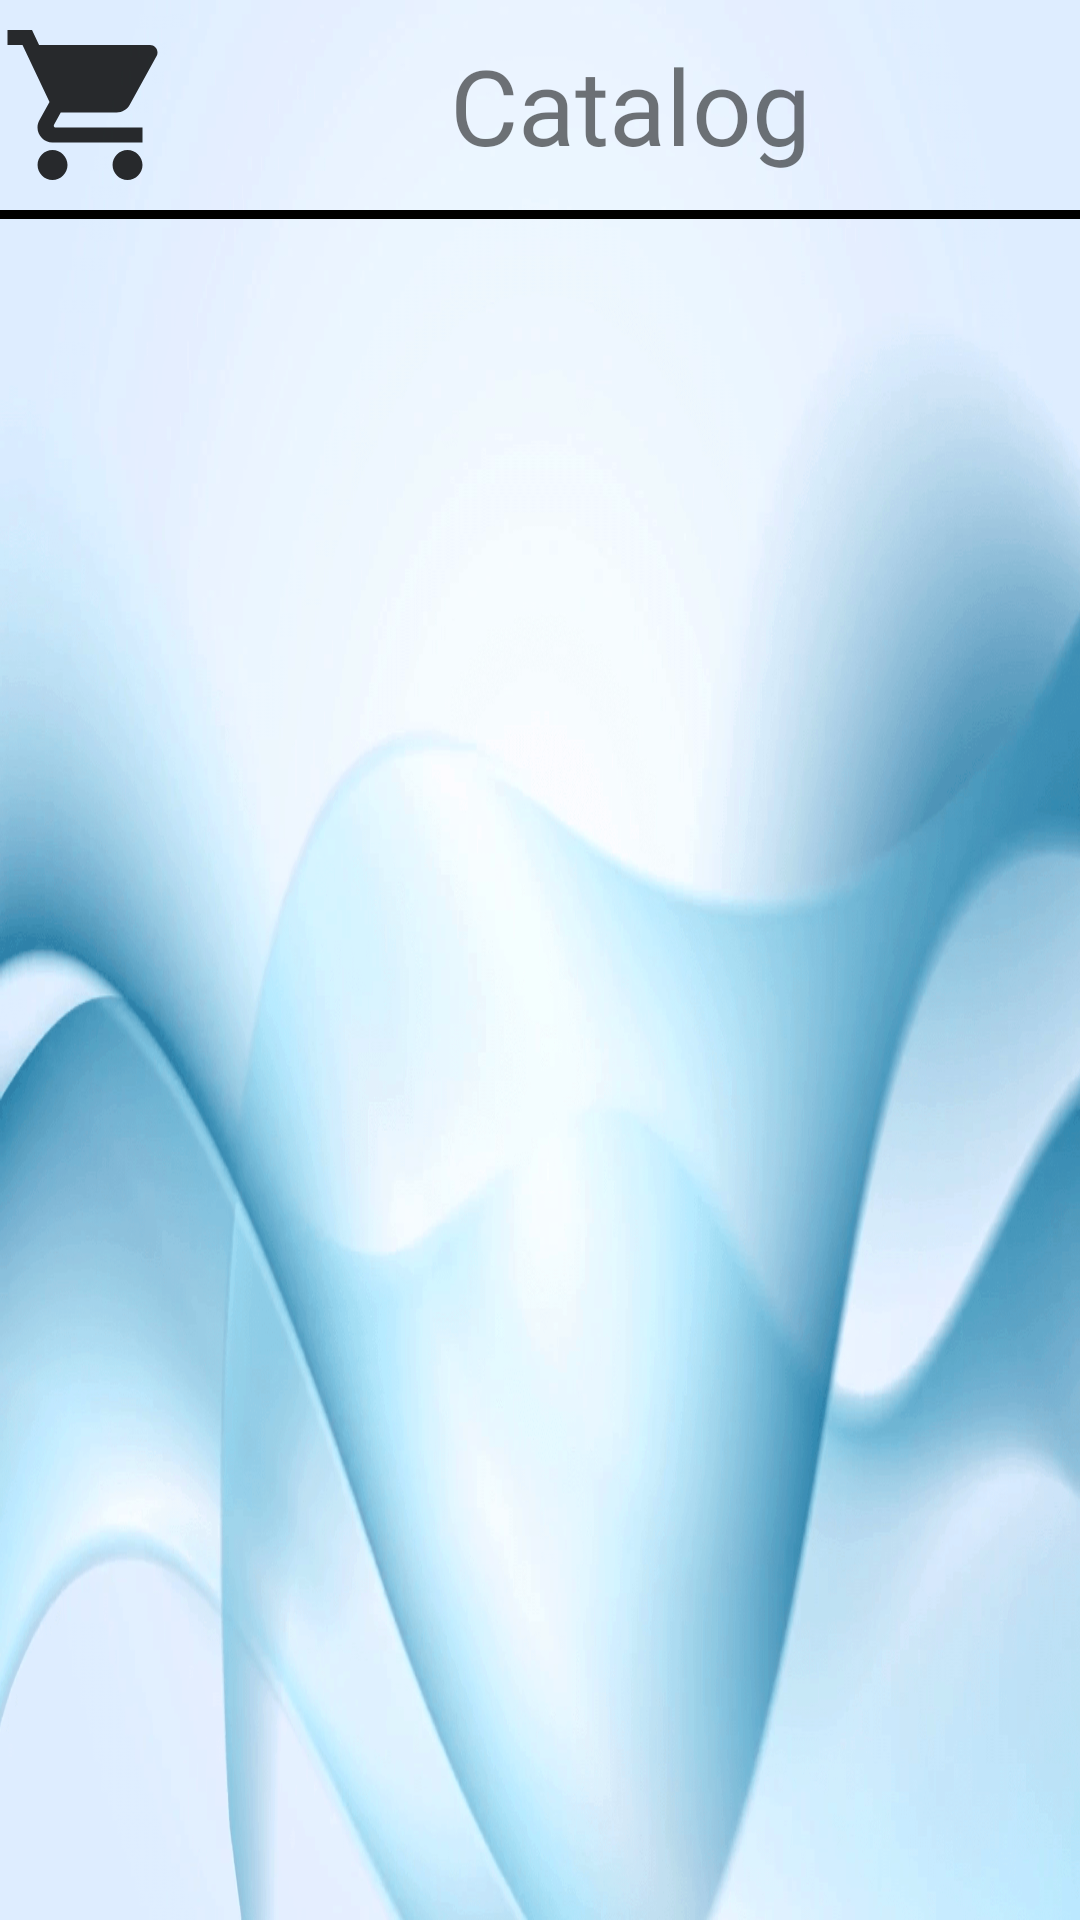

Icon bounding boxes for this 1080 x 1920 phone screenshot, format (x1, y1, x2, y2):
cart: (7, 30, 158, 180)
